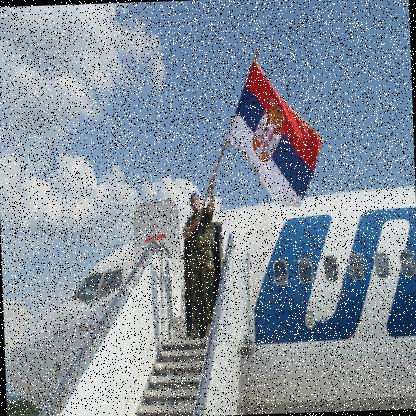rs: (224, 59, 327, 211)
